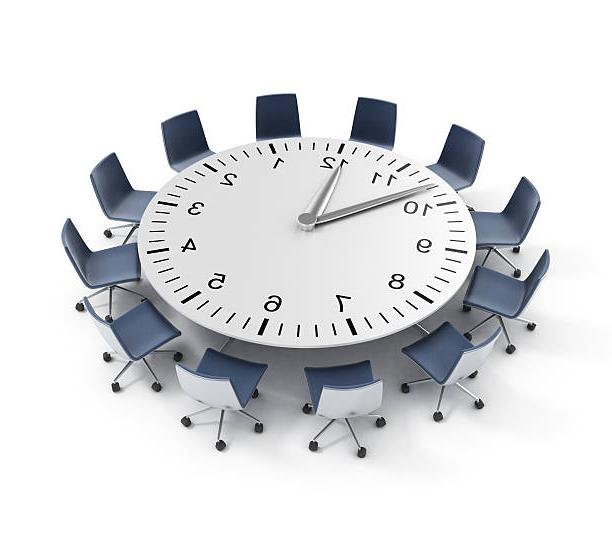chair: (172, 344, 275, 452), (462, 252, 563, 354), (393, 327, 498, 423), (294, 360, 388, 465), (91, 292, 181, 399), (51, 217, 136, 316), (467, 174, 545, 276), (88, 153, 147, 242), (434, 122, 488, 192), (155, 112, 211, 170), (248, 84, 304, 140), (348, 96, 397, 150)
clock: (137, 132, 482, 358)
